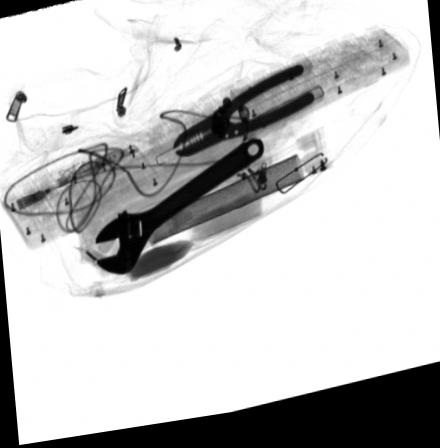Pliers: (171, 66, 324, 164)
Wrench: (93, 145, 263, 278)
